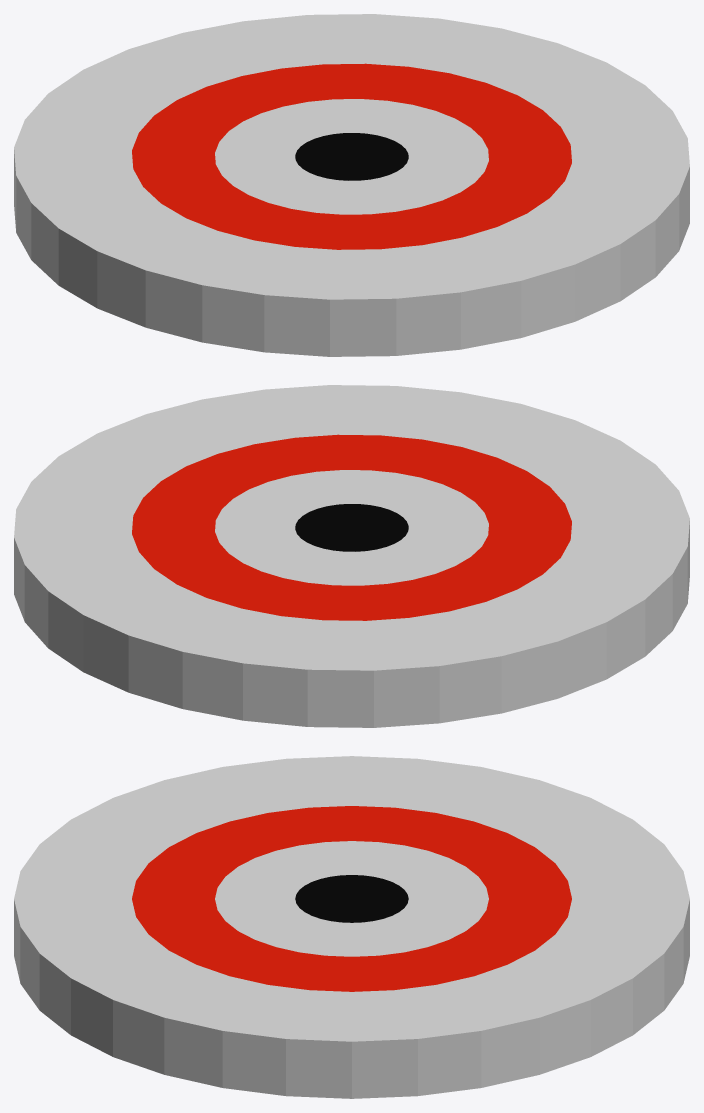
The model's file is Target.fbx.
3 renders of one model, top to bottom at view 1: azimuth 30°, elevation 25°; view 2: azimuth 150°, elevation 25°; view 3: azimuth 270°, elevation 25°, orthographic.
Visible parts, largest first — view 1: Cylinder; view 2: Cylinder; view 3: Cylinder.
Part boxes in pixels (x1,y1,x2,y2): Cylinder: (14, 14, 689, 356); Cylinder: (14, 385, 689, 727); Cylinder: (14, 756, 689, 1098).
Bounding box in the file's own units: 300 × 28 × 300.
